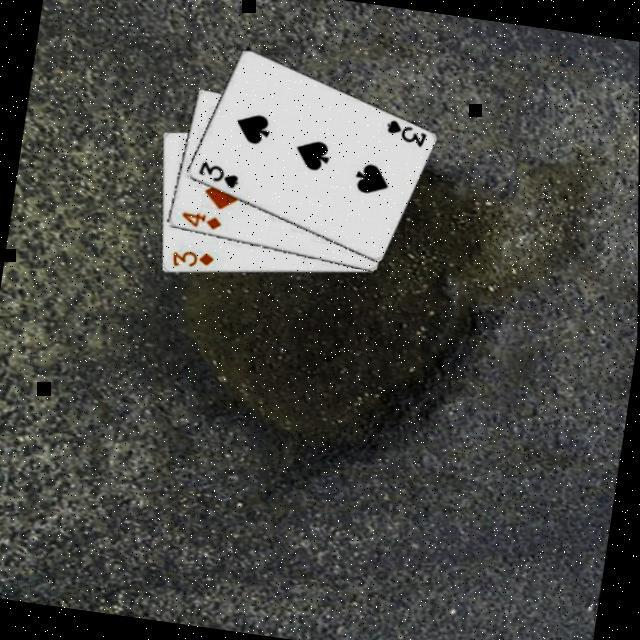3D: (168, 245, 219, 274)
3S: (382, 116, 432, 150), (195, 157, 244, 190)
4D: (178, 207, 226, 233)
